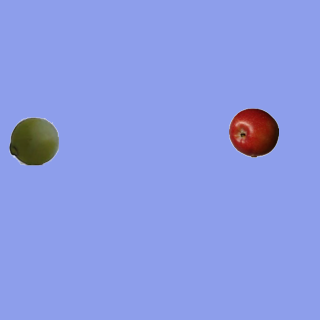Apple Braeburn: (228, 107, 278, 157)
Grape White 4: (8, 115, 58, 165)
